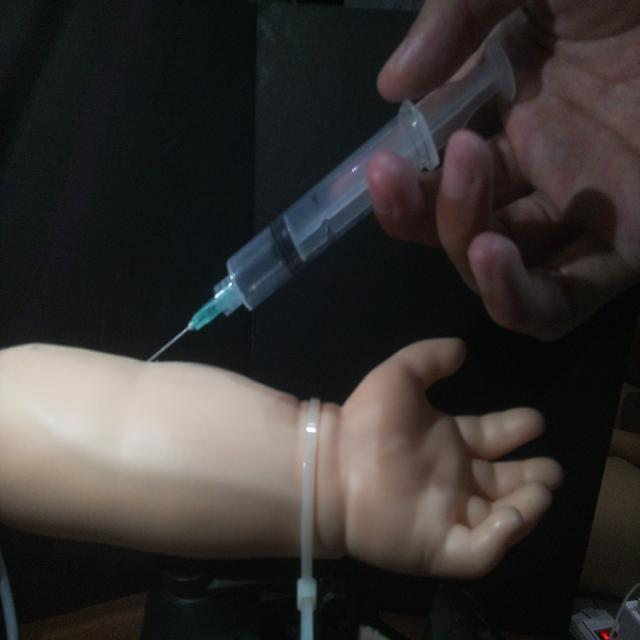26deg: (142, 35, 520, 365)
